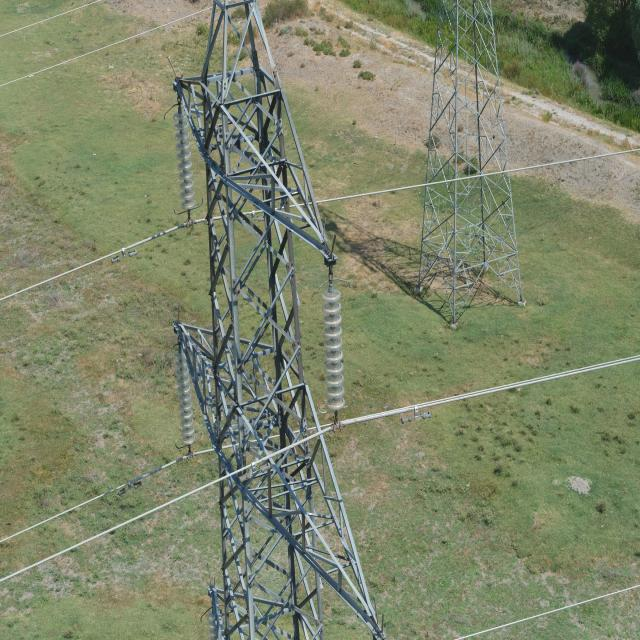voltage_line: (182, 0, 385, 640), (414, 4, 526, 328)
